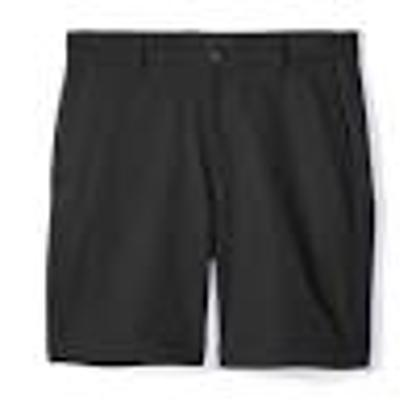not trash: (40, 26, 376, 371)
